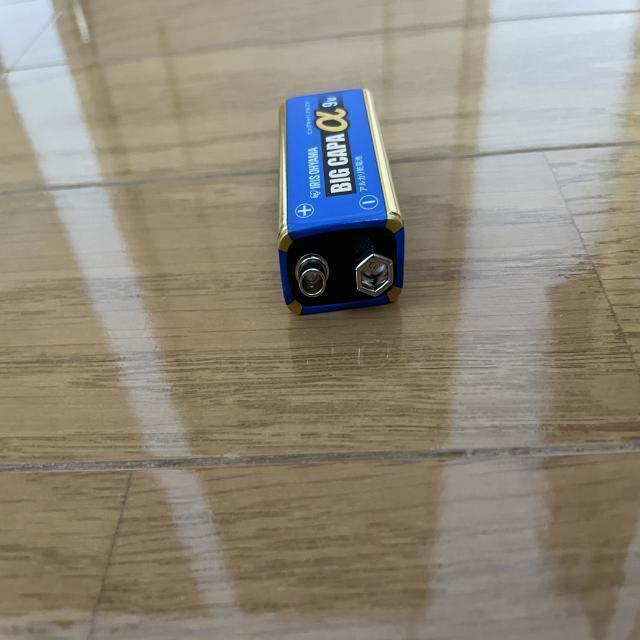9V: (276, 87, 406, 314)
